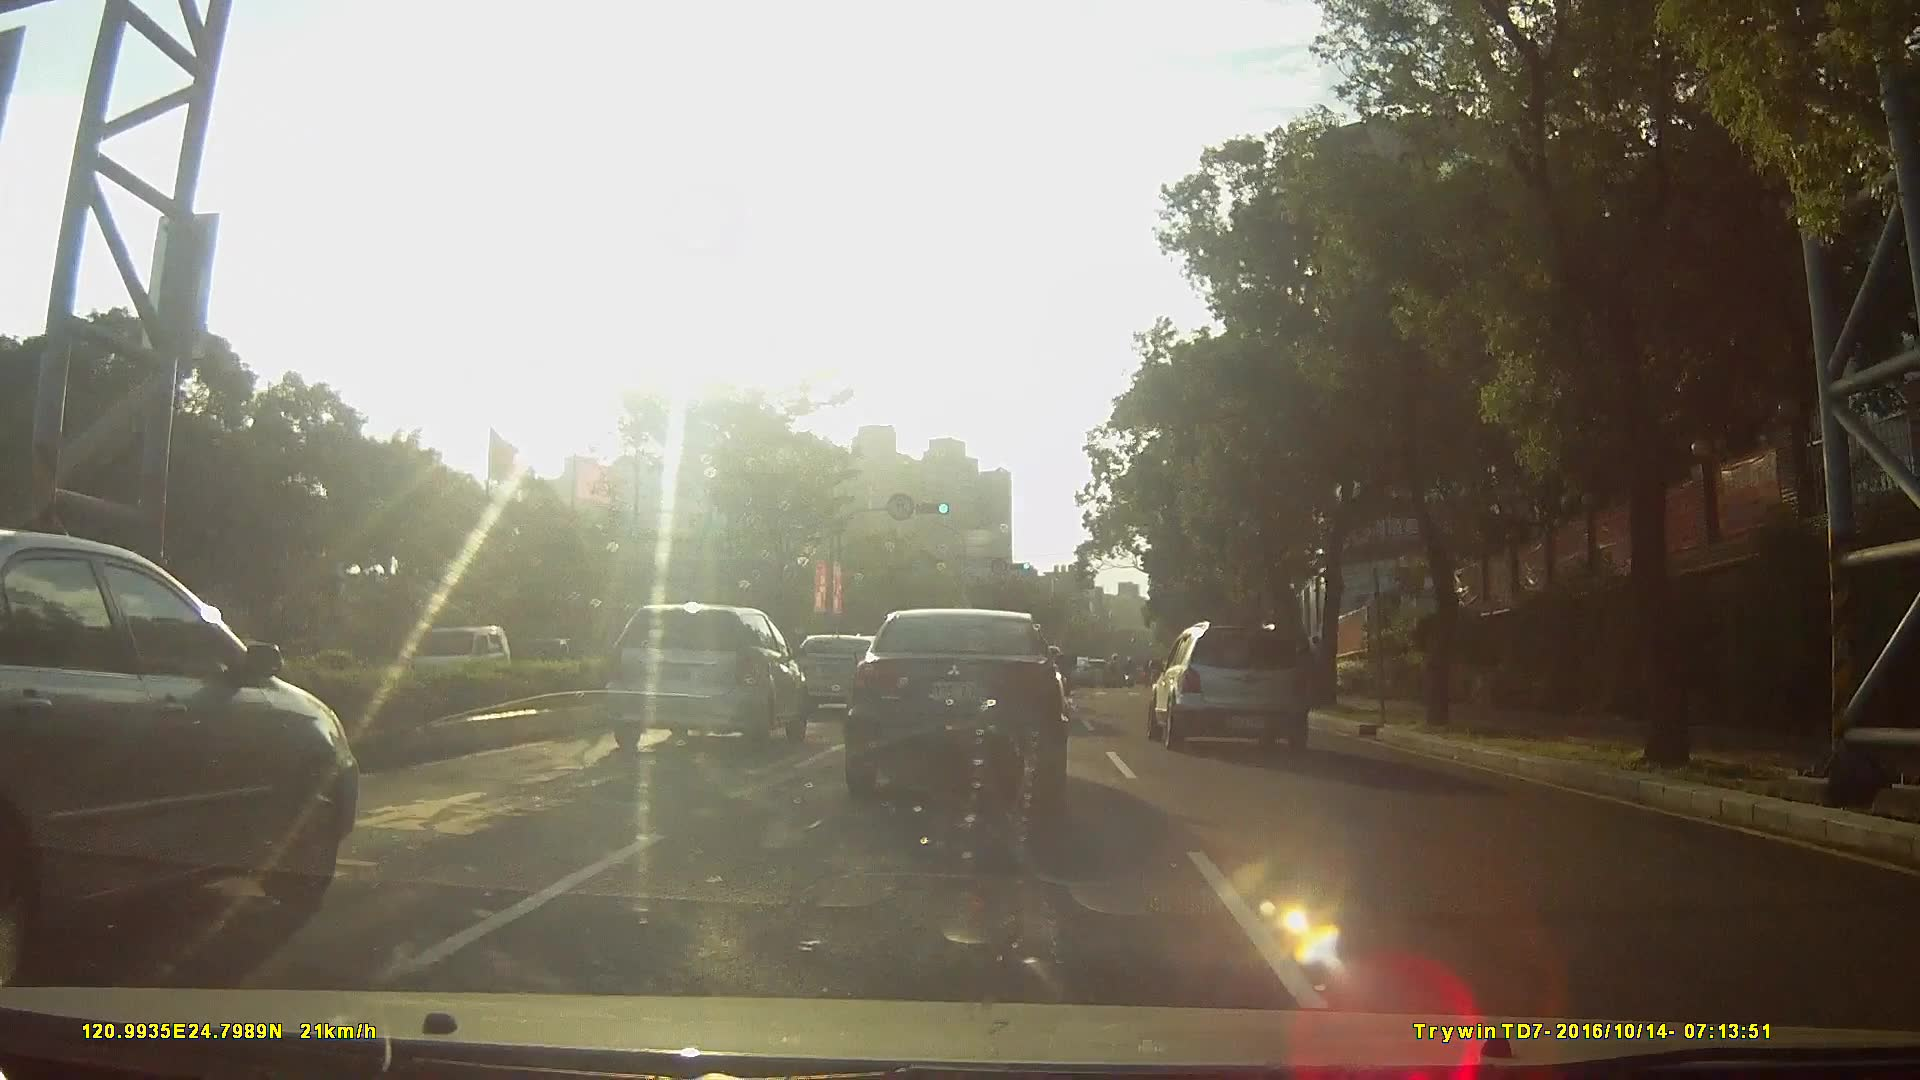vehicle: (1, 527, 380, 994), (843, 607, 1069, 808), (600, 605, 808, 750), (1143, 617, 1321, 749), (396, 624, 521, 698), (1077, 655, 1112, 687)
